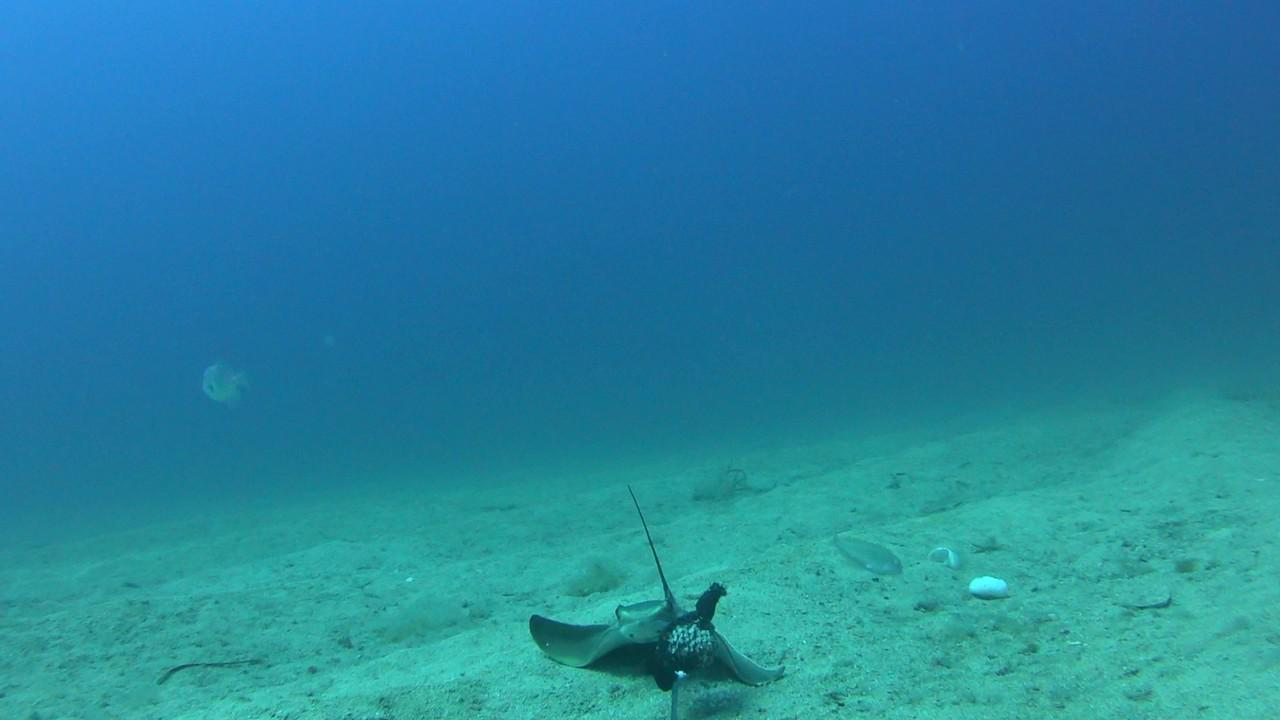balistes: (200, 353, 260, 411)
myliobatis: (510, 483, 798, 685)
raor: (820, 528, 912, 582)
